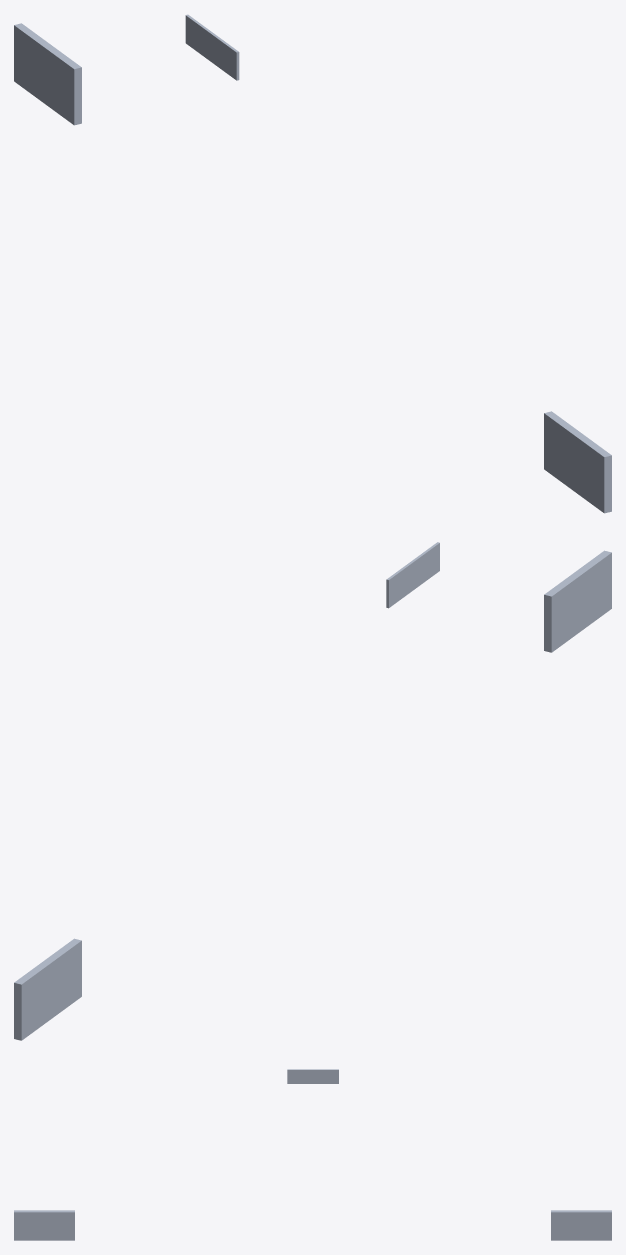
Rendered from Mirrors.glb.
3 renders of one model, top to bottom at view 1: azimuth 30°, elevation 25°; view 2: azimuth 150°, elevation 25°; view 3: azimuth 270°, elevation 25°, orthographic. The views are drawn at different scales.
Visible parts, largest first — view 1: RearMirror.001; view 2: RearMirror.001; view 3: RearMirror.001.
Part boxes in pixels (x1,y1,x2,y2): RearMirror.001: [14, 14, 611, 513]; RearMirror.001: [14, 542, 611, 1040]; RearMirror.001: [14, 1069, 611, 1240].
Bounding box in the file's own units: 0.00941 × 0.0245 × 0.0912.
Materials: 1 (1 with a texture image).
